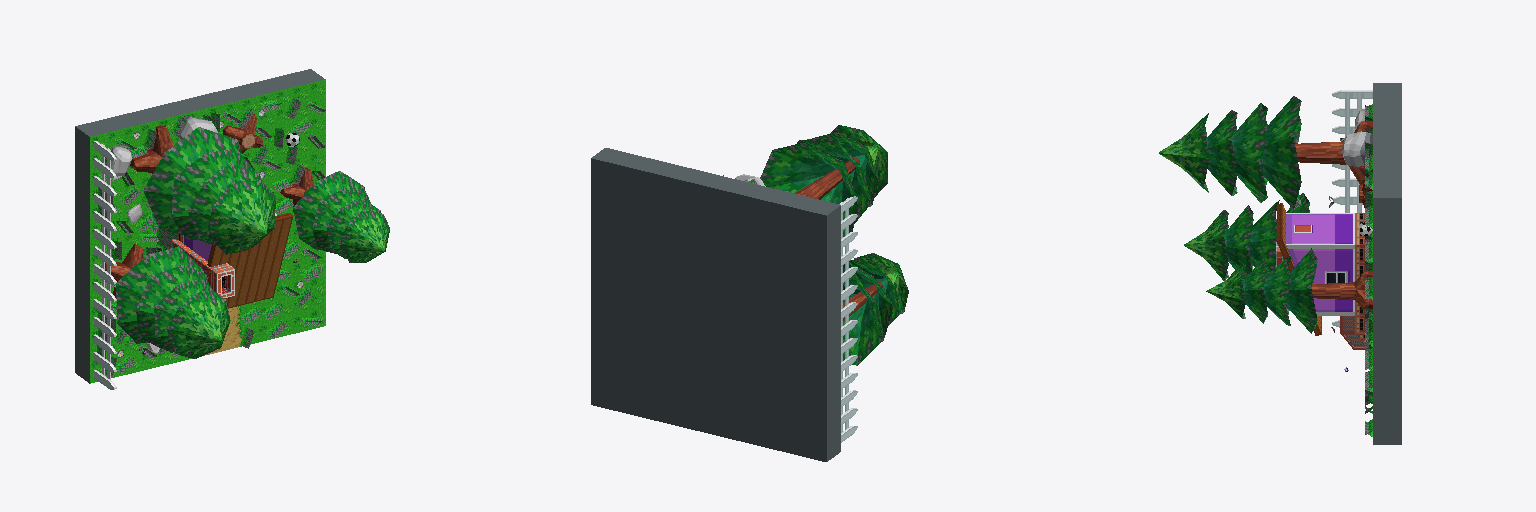
3 renders of one model, left to right at view 1: azimuth 30°, elevation 25°; view 2: azimuth 150°, elevation 25°; view 3: azimuth 270°, elevation 25°, orthographic.
Parts seen in each view (by area): view 1: ground_main_mat_0, tree_02_main_mat_0, tree_01_main_mat_0, tree_00_main_mat_0, house_main_mat_0, fence_main_mat_0, chimney_main_mat_0, tree_stump_main_mat_0; view 2: ground_main_mat_0, tree_02_main_mat_0, tree_01_main_mat_0, fence_main_mat_0; view 3: ground_main_mat_0, tree_02_main_mat_0, tree_00_main_mat_0, house_main_mat_0, tree_01_main_mat_0, fence_main_mat_0, support_main_mat_0, rock_02_main_mat_0.
Boxes of the visible parts, x1=… form: ground_main_mat_0: x1=75, y1=69, x2=325, y2=383; tree_02_main_mat_0: x1=130, y1=125, x2=275, y2=254; tree_01_main_mat_0: x1=105, y1=244, x2=230, y2=358; tree_00_main_mat_0: x1=280, y1=168, x2=389, y2=262; house_main_mat_0: x1=183, y1=213, x2=292, y2=308; fence_main_mat_0: x1=94, y1=141, x2=116, y2=389; chimney_main_mat_0: x1=172, y1=239, x2=234, y2=297; tree_stump_main_mat_0: x1=223, y1=114, x2=263, y2=153; ground_main_mat_0: x1=591, y1=148, x2=840, y2=461; tree_02_main_mat_0: x1=760, y1=125, x2=887, y2=236; tree_01_main_mat_0: x1=843, y1=253, x2=908, y2=365; fence_main_mat_0: x1=839, y1=196, x2=857, y2=442; ground_main_mat_0: x1=1373, y1=83, x2=1401, y2=444; tree_02_main_mat_0: x1=1159, y1=96, x2=1372, y2=209; tree_00_main_mat_0: x1=1206, y1=248, x2=1372, y2=333; house_main_mat_0: x1=1277, y1=203, x2=1354, y2=335; tree_01_main_mat_0: x1=1184, y1=193, x2=1309, y2=280; fence_main_mat_0: x1=1332, y1=90, x2=1372, y2=327; support_main_mat_0: x1=1340, y1=213, x2=1364, y2=349; rock_02_main_mat_0: x1=1342, y1=131, x2=1372, y2=166.
Bounding box in the file's own units: 15.11 × 15.06 × 12.57.
Materials: 1 (1 with a texture image).